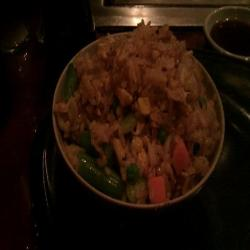rice: (51, 19, 234, 148)
